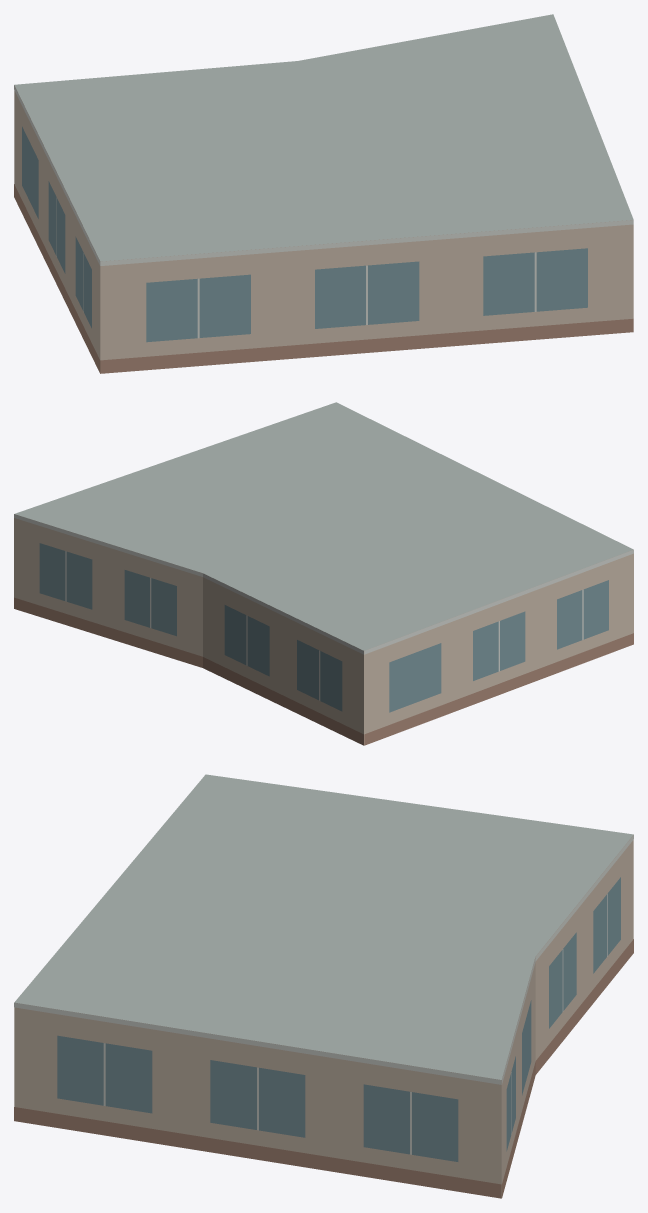
Rendered from survey-upis-32906545.glb.
3 renders of one model, top to bottom at view 1: azimuth 30°, elevation 25°; view 2: azimuth 150°, elevation 25°; view 3: azimuth 270°, elevation 25°, orthographic. The views are drawn at different scales.
Visible parts, largest first — view 1: survey-upis-32906545.tmp; view 2: survey-upis-32906545.tmp; view 3: survey-upis-32906545.tmp.
Part boxes in pixels (<box>): survey-upis-32906545.tmp: <box>14,14,633,373</box>; survey-upis-32906545.tmp: <box>14,402,633,745</box>; survey-upis-32906545.tmp: <box>14,774,633,1198</box>.
Size of the model in its own units: 16.89 by 3.05 by 14.46.
